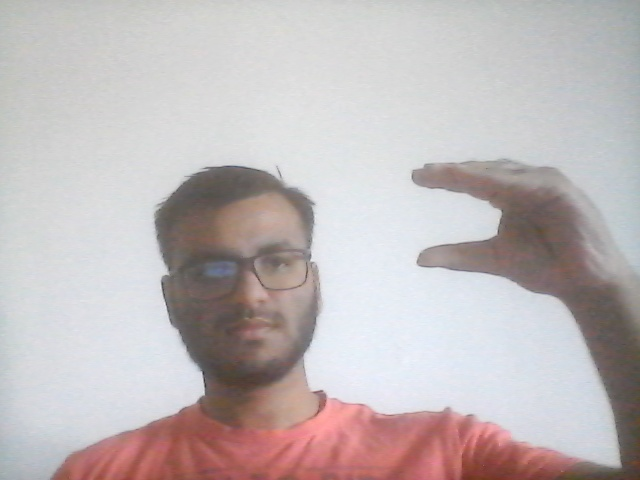No: (406, 153, 629, 298)
